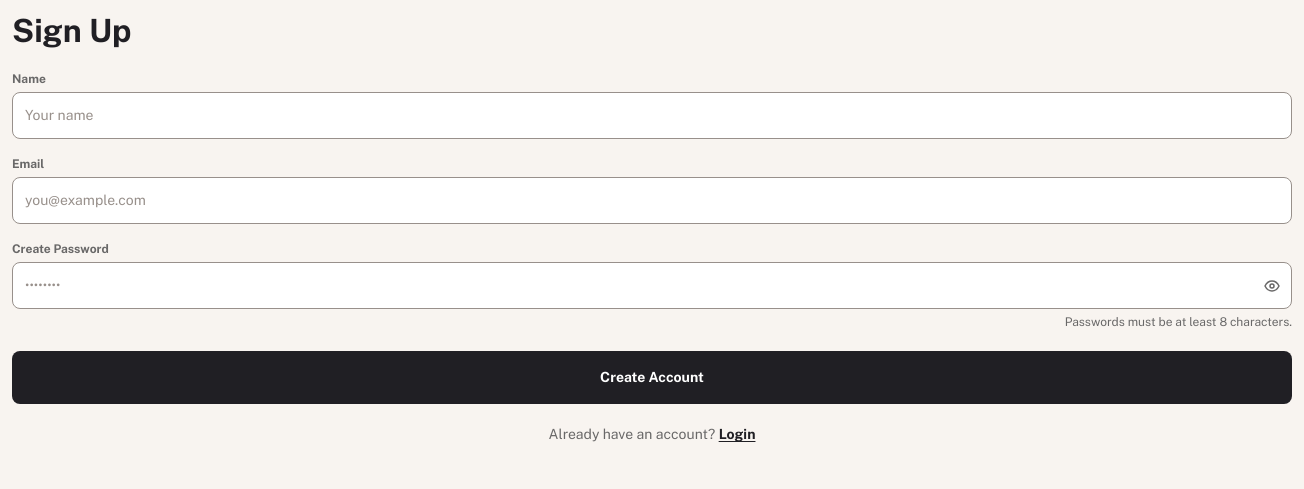
SignUpForm › accessibility › server error uses role alert
This screenshot has width=1304, height=489.
In the field labelled "Name": x=652, y=116 x1=12 y1=92 x2=1292 y2=139, type "Jane Doe"
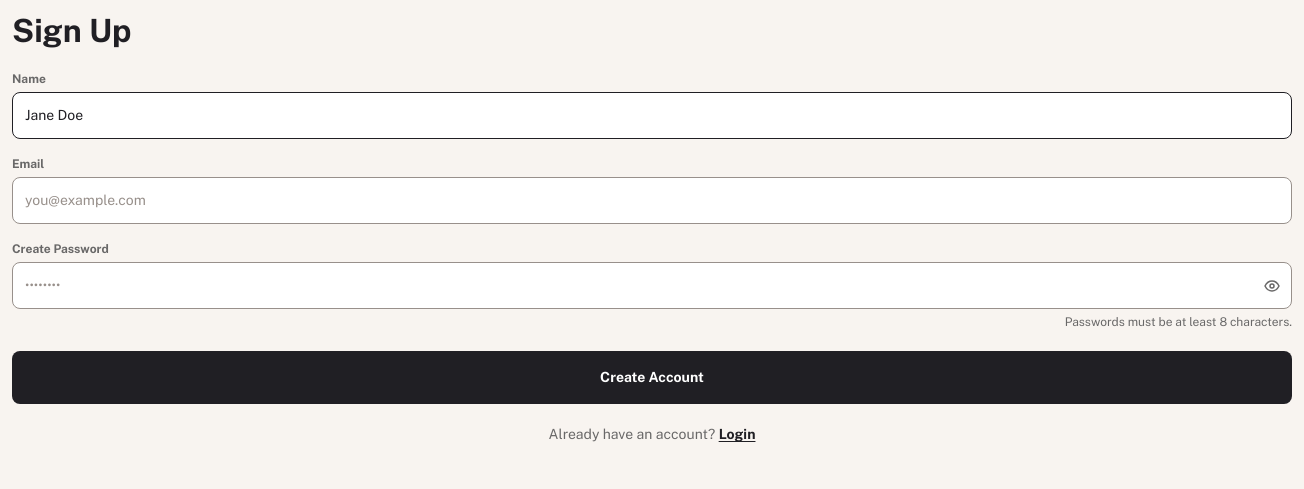
In the field labelled "Email": x=652, y=201 x1=12 y1=177 x2=1292 y2=224, type "jane@example.com"
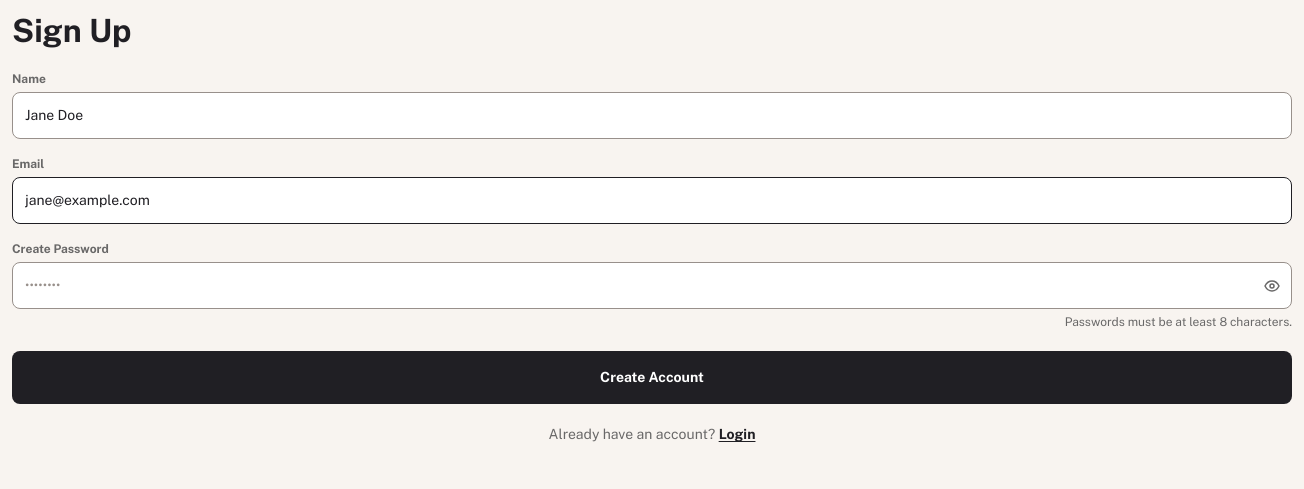
In the password field labelled "Create Password": x=652, y=286 x1=12 y1=262 x2=1292 y2=309, type "secret123"
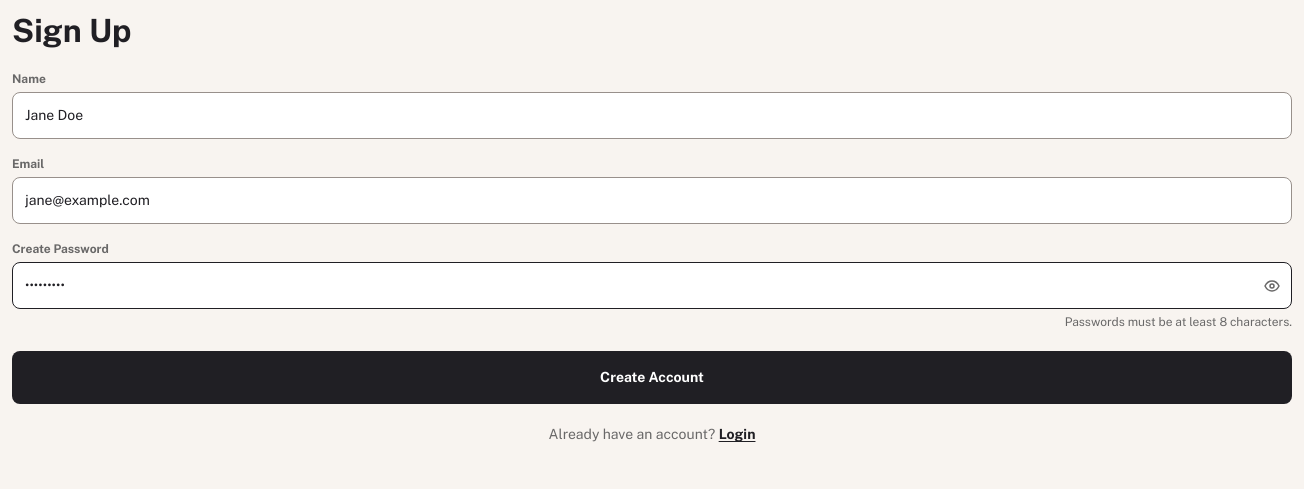
Click the button "Create Account": x=652, y=378 x1=12 y1=351 x2=1292 y2=404
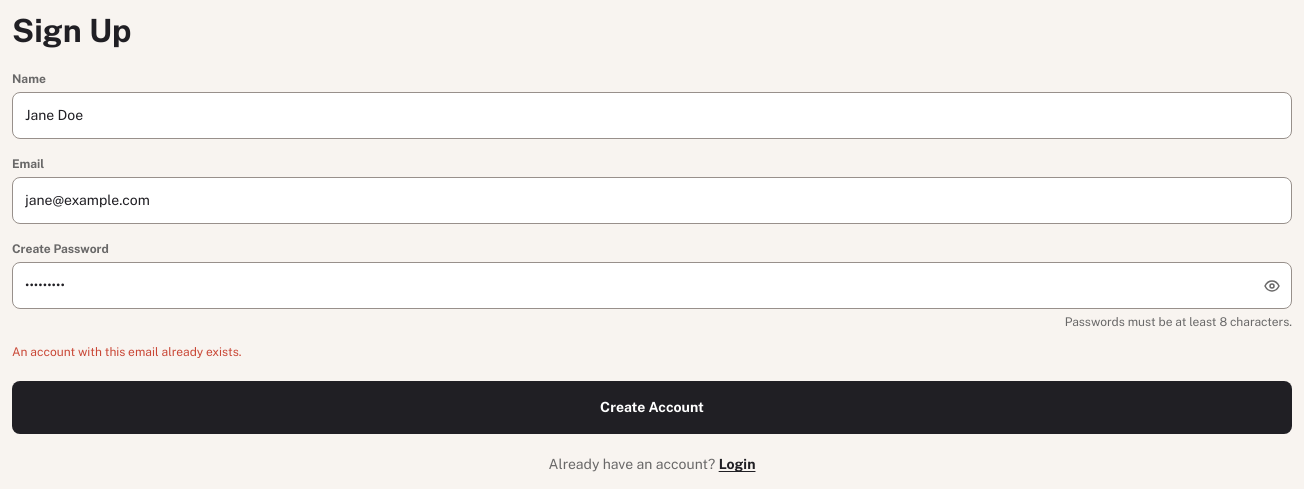
Result: the message "An account with this email already exists." is shown at x1=12 y1=345 x2=242 y2=359
